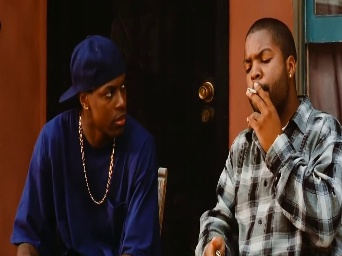smoke: (246, 86, 260, 95)
